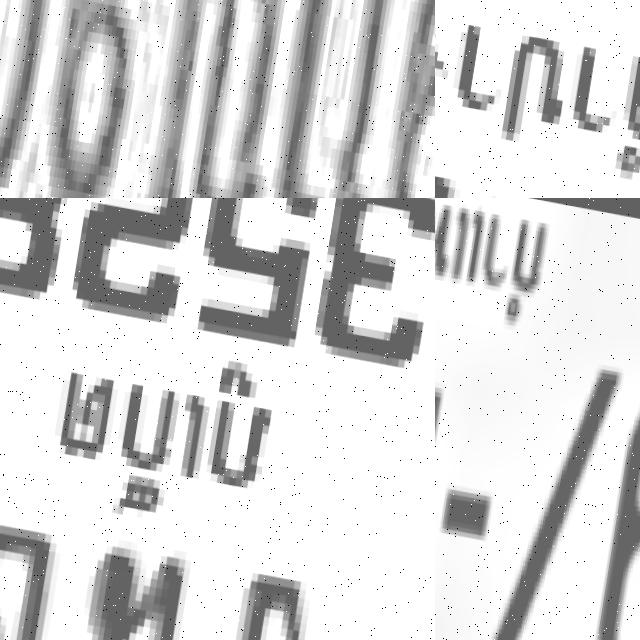license-plate: (0, 198, 435, 640), (435, 198, 640, 640), (0, 0, 435, 198), (435, 0, 640, 198)
